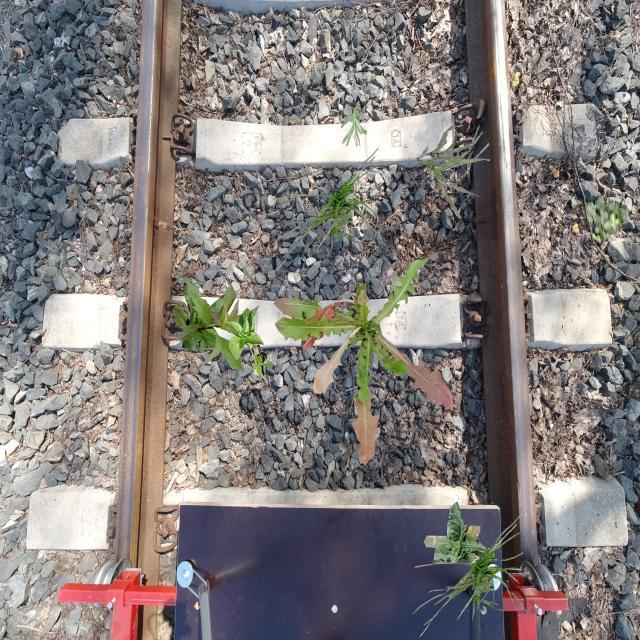Plant: (274, 258, 454, 467), (412, 515, 530, 638), (271, 148, 389, 270), (172, 275, 260, 372), (417, 125, 490, 218), (423, 502, 486, 564), (226, 308, 274, 379), (585, 195, 628, 245), (341, 106, 368, 148)
